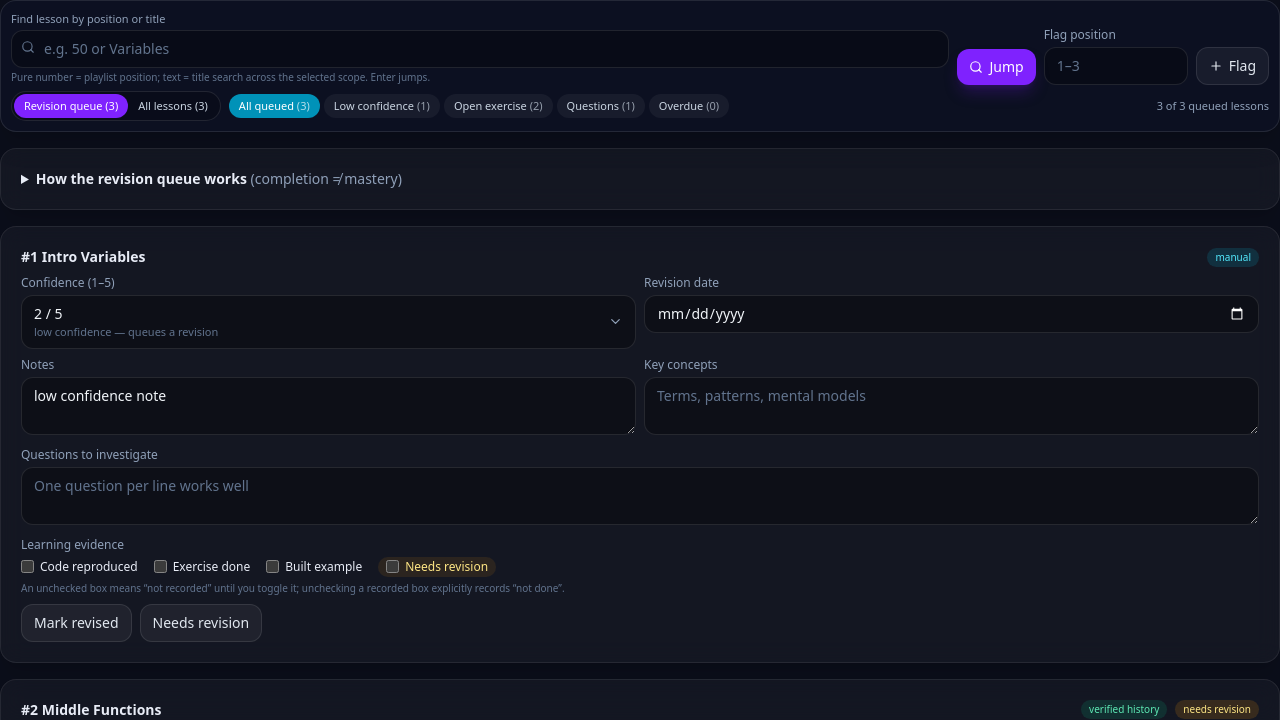
Test: Revision sticky toolbar, search, jump, and filters › treats a pure numeric query as a position, including leading zeros
This screenshot has width=1280, height=720.
Check: the text "3 of 3 queued lessons" is shown, box [1157,98,1269,114]
Type "002" into the field labelled "Find lesson by position or title" at (480, 48), box [11,30,950,68]
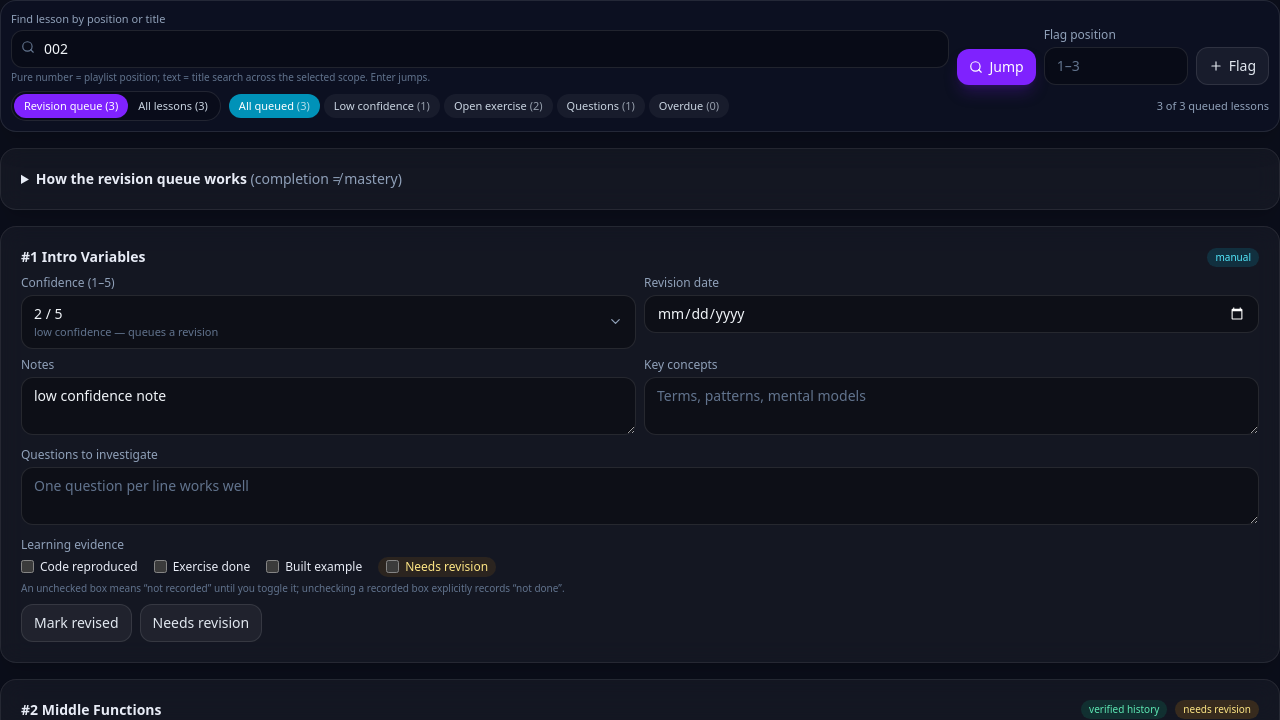
Click the button "Jump" at (997, 66), box [958,48,1036,84]
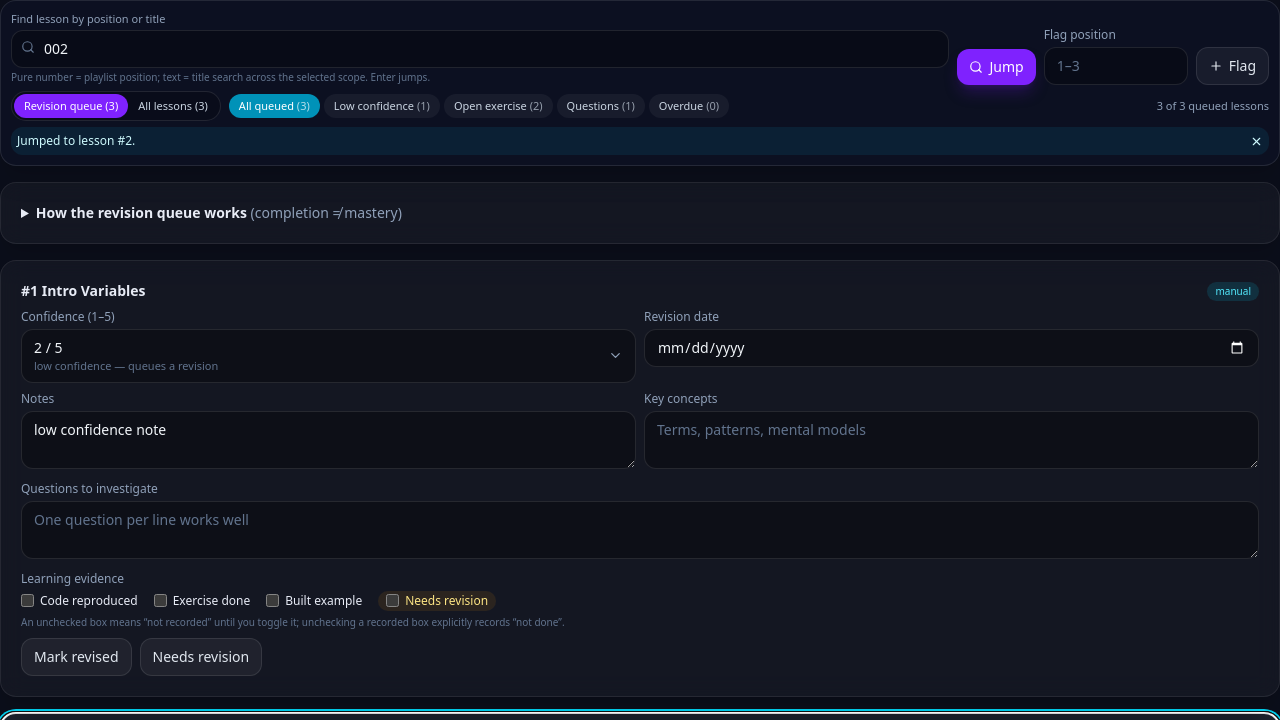
Check: the text "Jumped to lesson #2." is shown, box [17,132,135,149]
